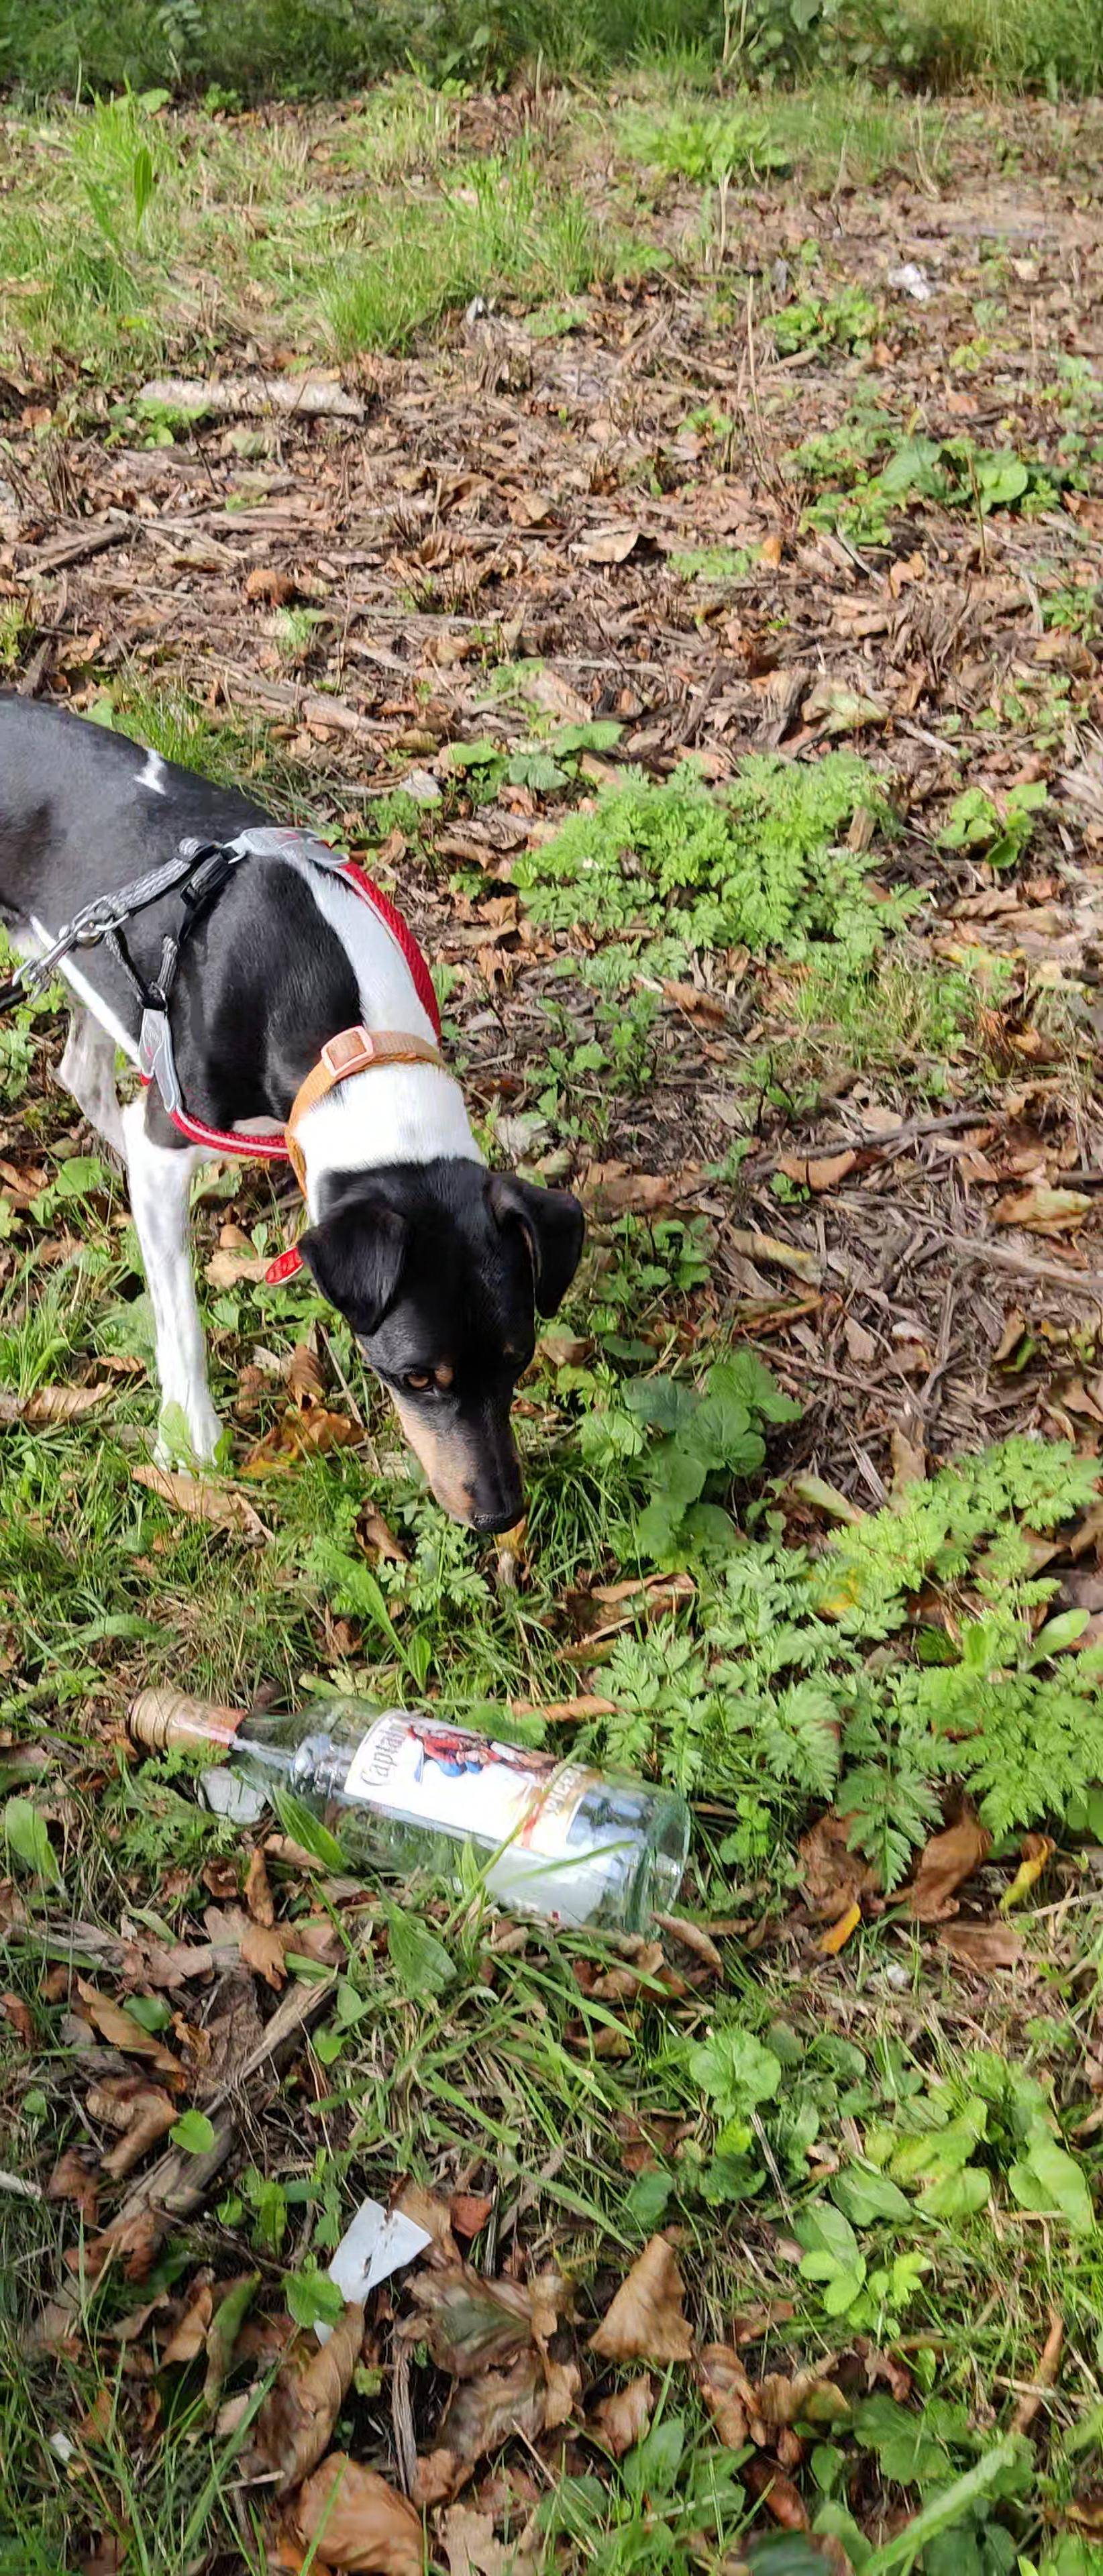Dog: (0, 662, 623, 1557)
